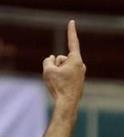up: (41, 18, 89, 107)
